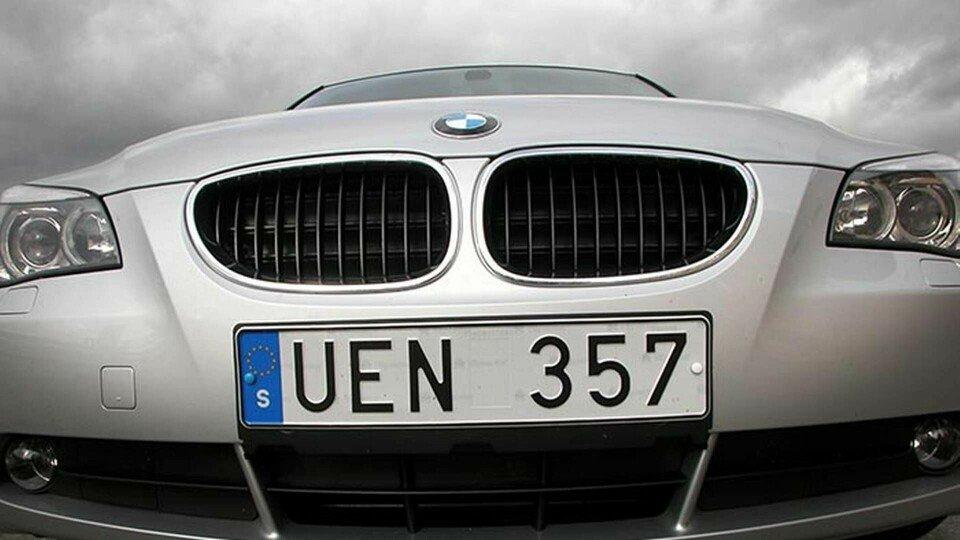license-plates: (236, 317, 710, 427)
